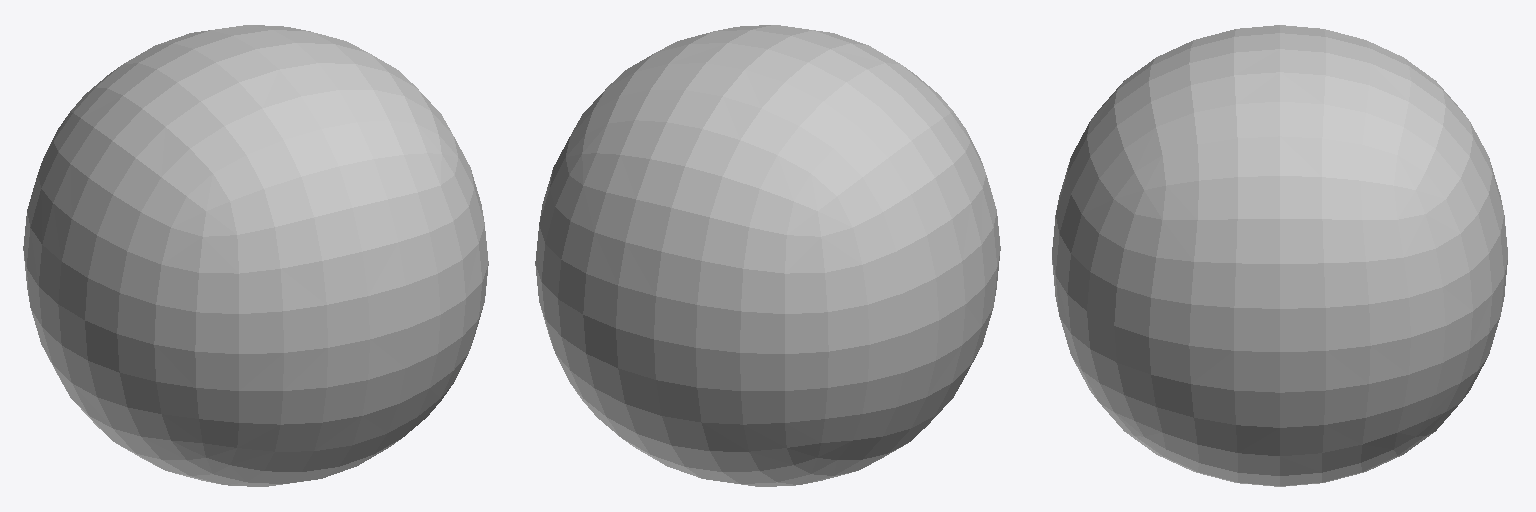
File: finalSphere.obj
3 renders of one model, left to right at view 1: azimuth 30°, elevation 25°; view 2: azimuth 150°, elevation 25°; view 3: azimuth 270°, elevation 25°, orthographic.
Visible parts, largest first — view 1: Cube; view 2: Cube; view 3: Cube.
Boxes of the visible parts, box(x1,y1,x2,y2) form: Cube: box(23, 25, 488, 486); Cube: box(535, 25, 1000, 486); Cube: box(1052, 25, 1507, 486).
Bounding box in the file's own units: 1.68 × 1.68 × 1.68.